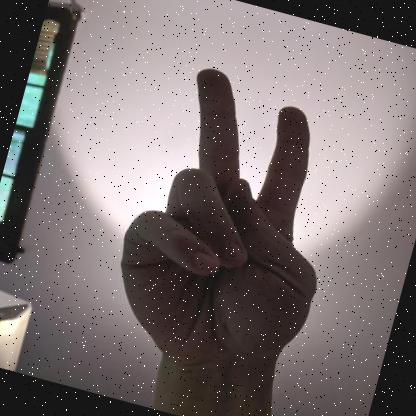K: (120, 68, 316, 385)
